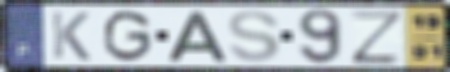9: (296, 8, 345, 66)
A: (164, 10, 229, 63)
G: (101, 9, 154, 64)
K: (49, 9, 93, 62)
S: (225, 9, 283, 64)
Z: (348, 8, 406, 65)
